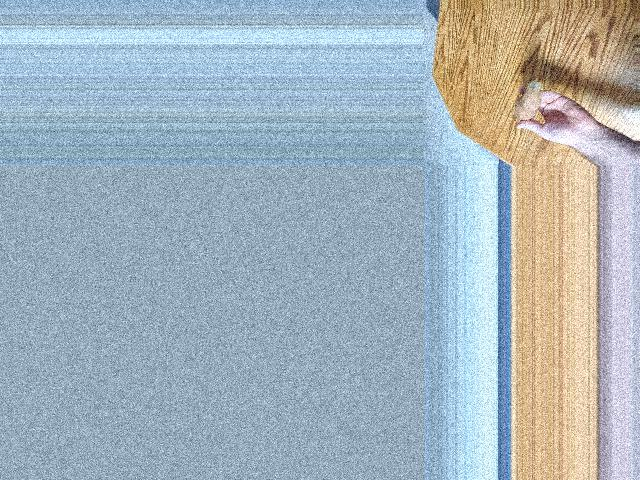sweet_potato: (519, 80, 545, 123)
